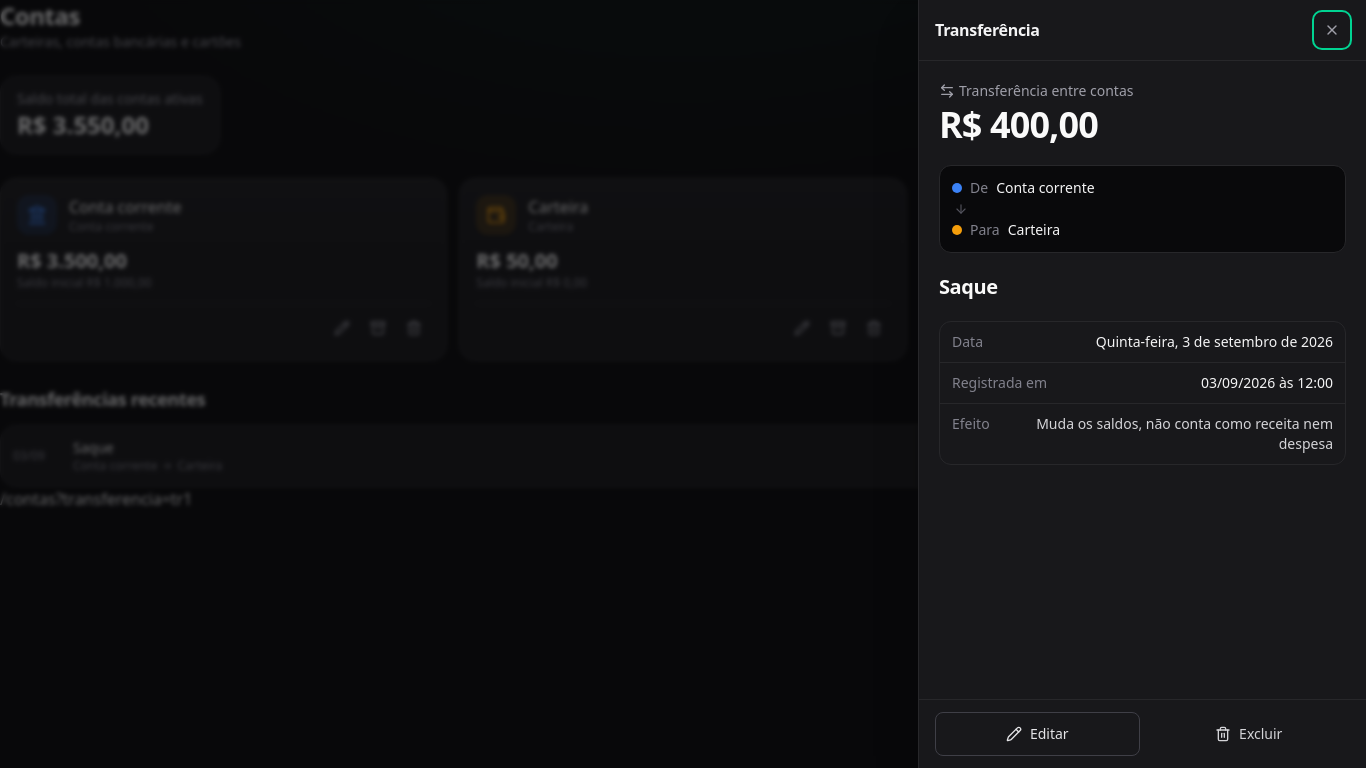
AccountsPage › deletes a transfer from its drawer and closes it
The width and height of the screenshot is (1366, 768).
Click the button "Excluir" at (1249, 734), box [1148,712,1350,756]
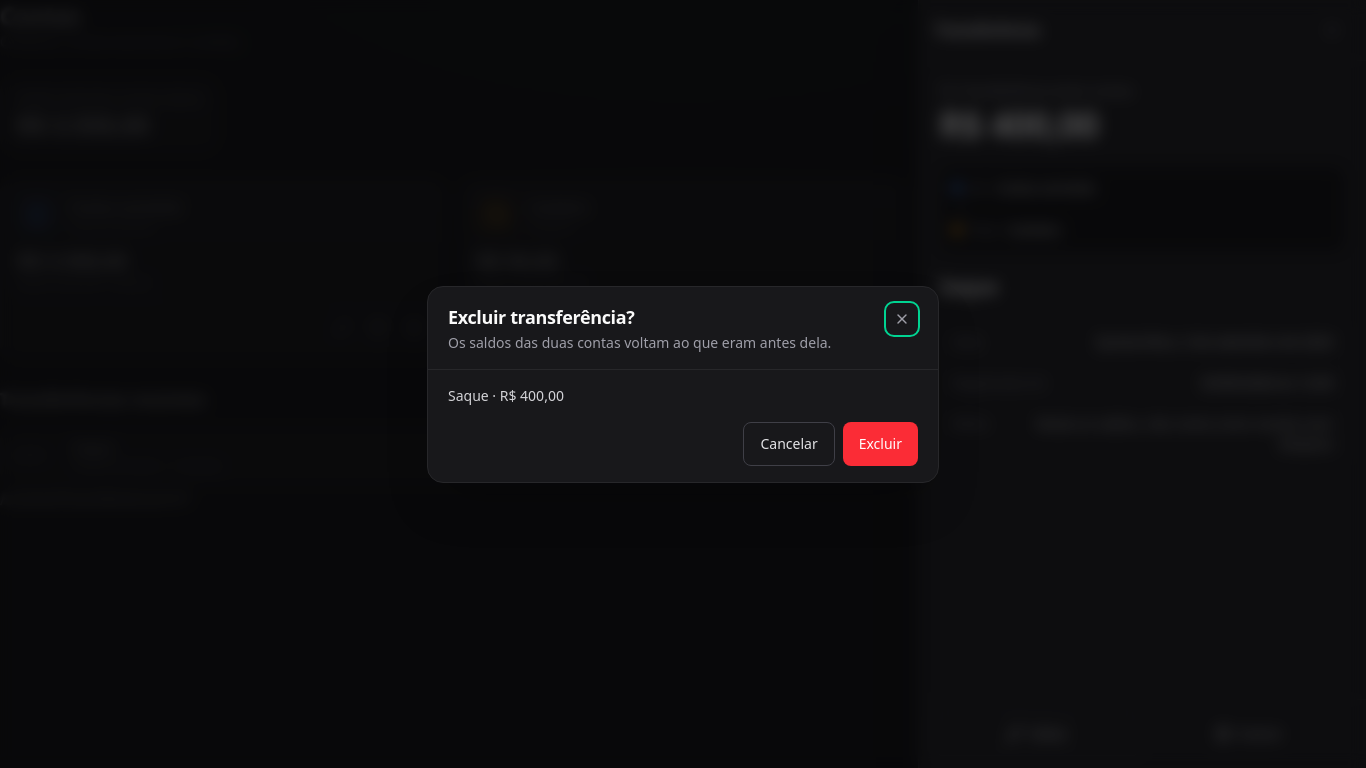
Click the button "Excluir" at (880, 444), box [843,422,918,466]
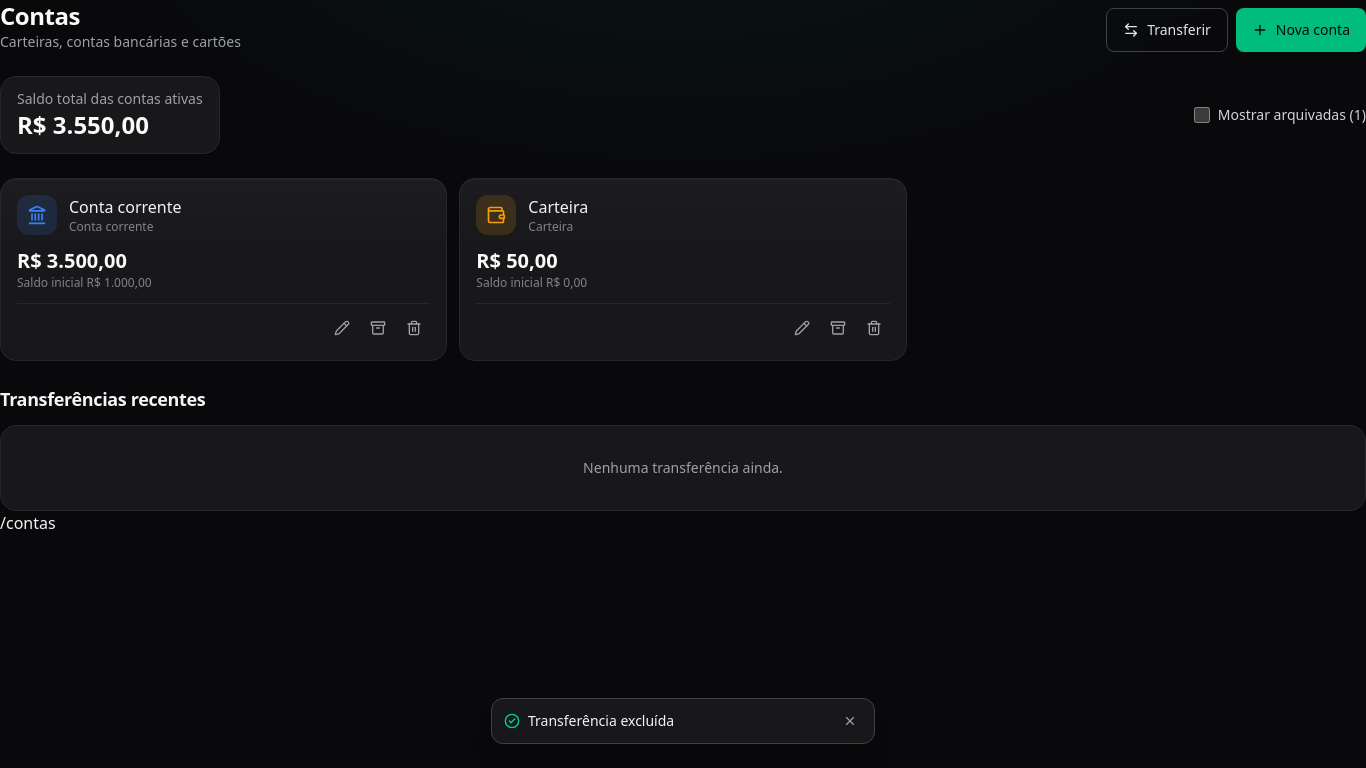
Expected: the dialog is gone
Expected: the text with test id "location" reads "/contas", [0,512,56,534]
Expected: the text "Nenhuma transferência ainda." is shown, [0,425,1365,511]
